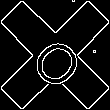O_NE: (22, 22, 88, 88)
